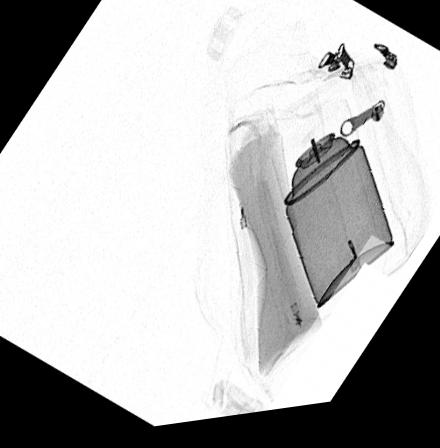Sprayer: (282, 109, 395, 320)
